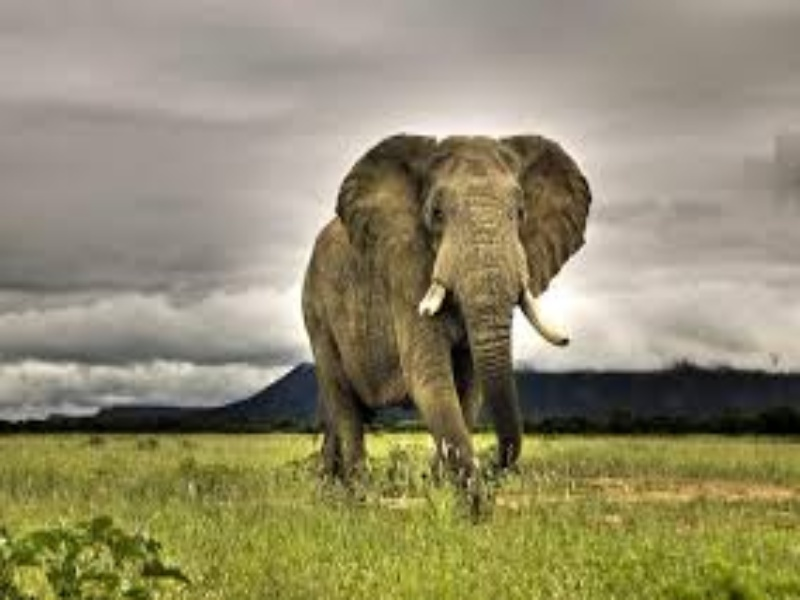elephant: (275, 127, 612, 540)
